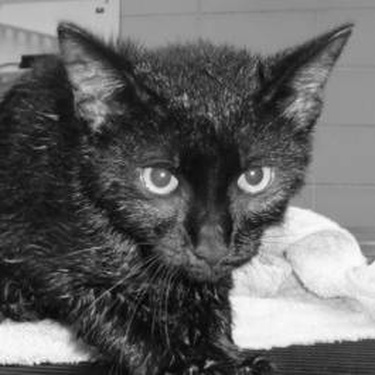cat: (19, 14, 352, 371)
